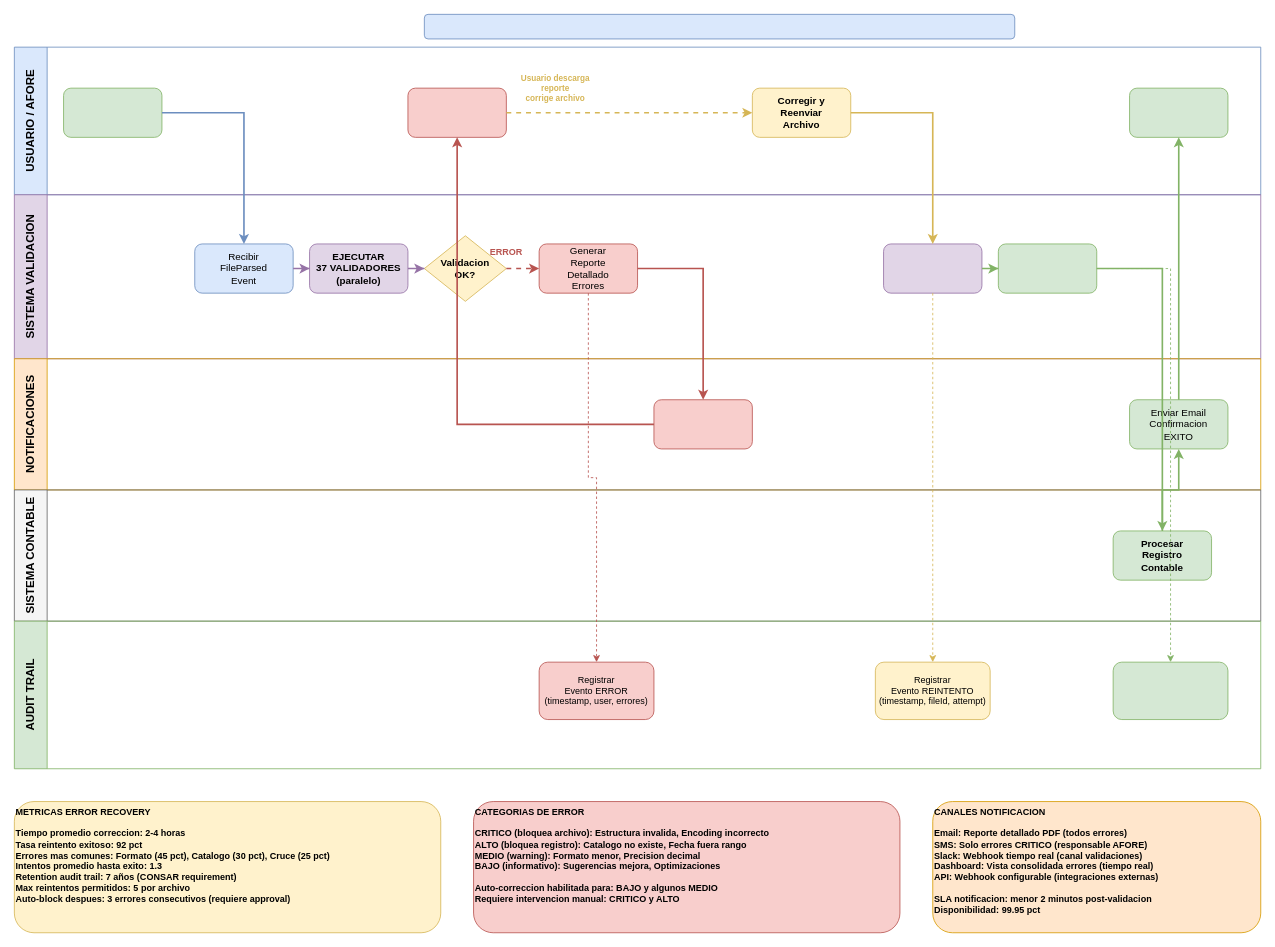
This 1275x947 diagram has some shape labels left out. Each missing label, with the centre of its shape:
"Cargar Archivo CONSAR" belongs at point 112,112.
"Enviar Email con Reporte Errores" belongs at point 702,424.
"FLUJO ERROR HANDLING AND RECOVERY - SISTEMA VALIDACION CONSAR" belongs at point 719,26.
"Publicar FileValidated (OK)" belongs at point 1047,268.
"Recibir Confirmacion EXITO" belongs at point 1178,112.
"Recibir Notificacion ERROR" belongs at point 456,112.
"Registrar Evento SUCCESS (timestamp, validationId)" belongs at point 1170,690.
"REVALIDAR Archivo Corregido" belongs at point 932,268.
